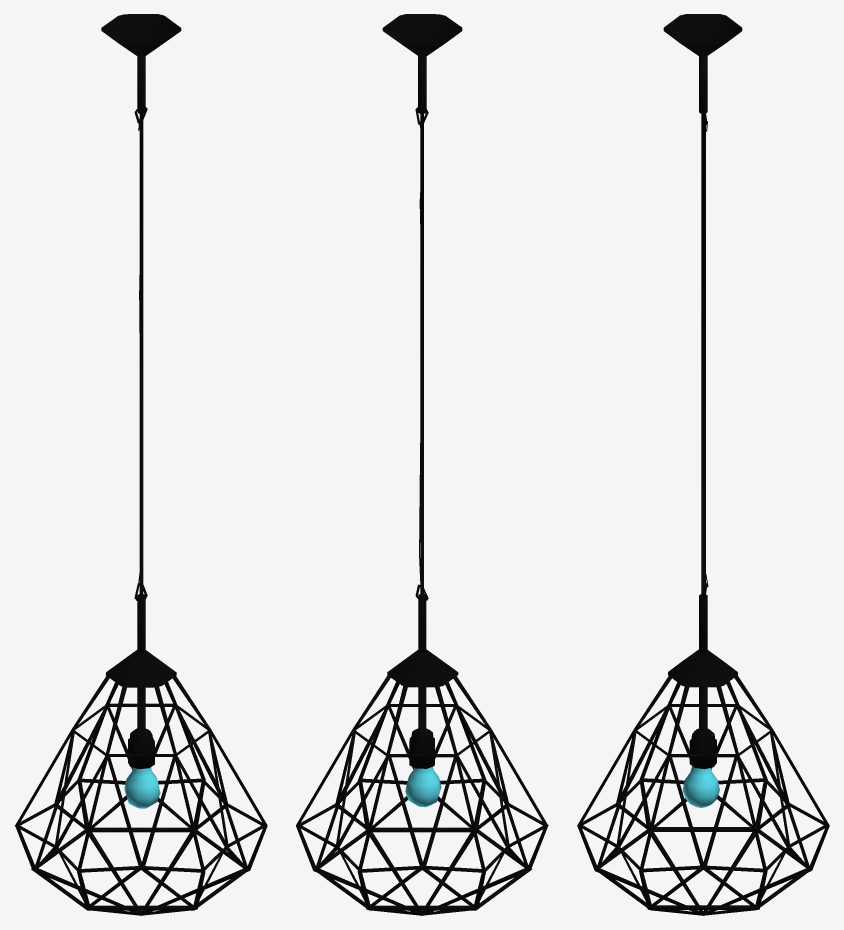
Rendered from SM_Pendantlight_014_B.FBX.
The picture shows the model from 3 angles, left to right: view 1: azimuth 30°, elevation 25°; view 2: azimuth 150°, elevation 25°; view 3: azimuth 270°, elevation 25°; orthographic projection.
Parts seen in each view (by area): view 1: SM_Pendantlight_014_B; view 2: SM_Pendantlight_014_B; view 3: SM_Pendantlight_014_B.
Part boxes in pixels (x1,y1,x2,y2): SM_Pendantlight_014_B: (14,14,267,915); SM_Pendantlight_014_B: (296,14,548,915); SM_Pendantlight_014_B: (577,14,829,915).
Size of the model in its own units: 27.58 by 31.66 by 123.
